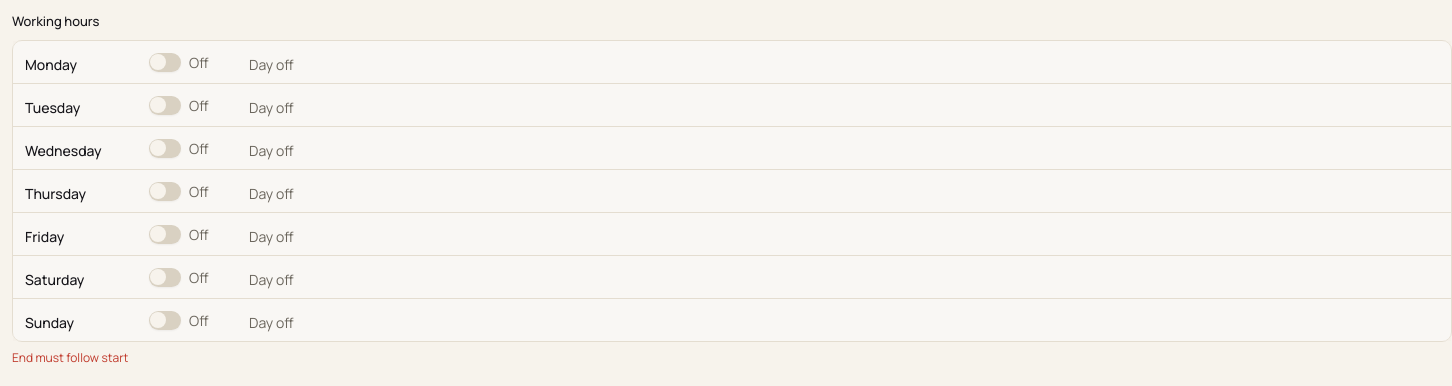
Scenario: working hours changes preserve the other days and show validation
Expected: the message reads "End must follow start", [12, 348, 128, 366]
Click the switch named "Monday working": coordinates (165, 62) [149, 53, 181, 72]
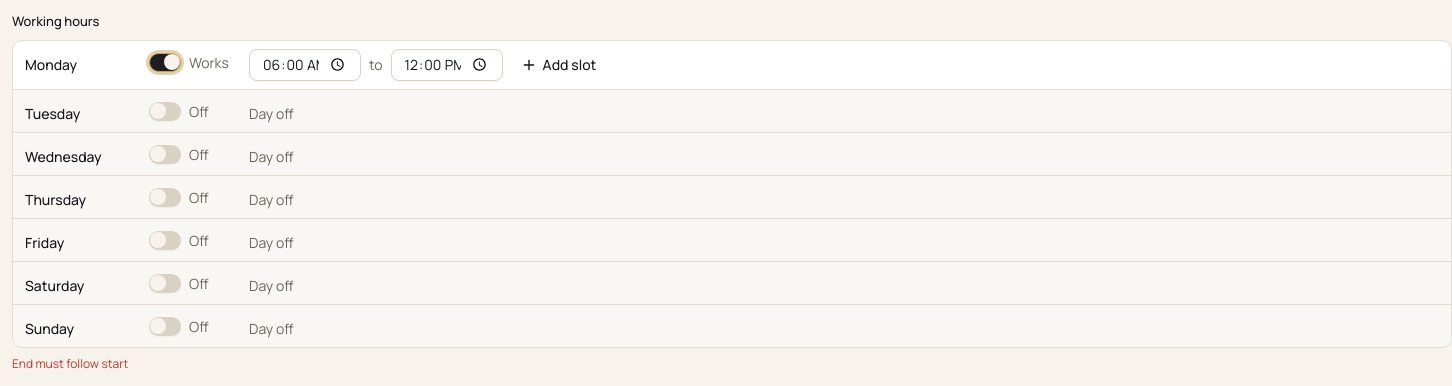
Replace the text in the time field named "Monday start" with "07:00": coordinates (305, 64) [249, 48, 361, 80]
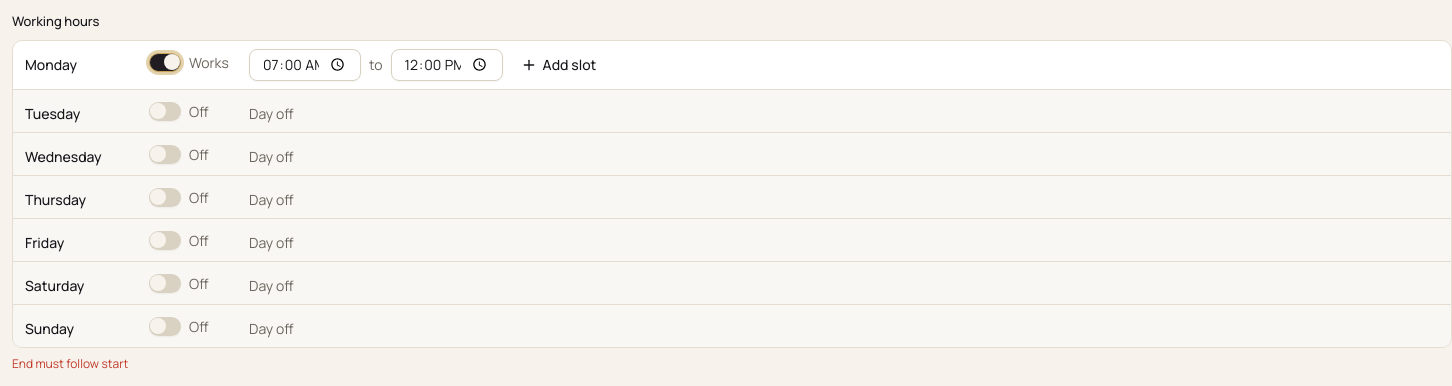
Replace the text in the time field named "Monday end" with "13:00": coordinates (447, 64) [391, 48, 503, 80]
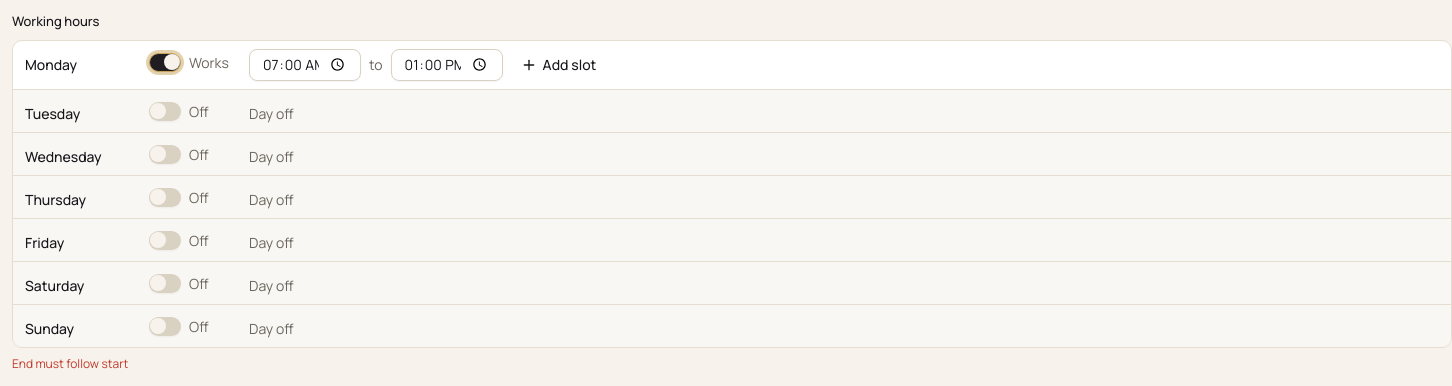
Click the switch named "Monday working": coordinates (165, 62) [149, 53, 181, 72]
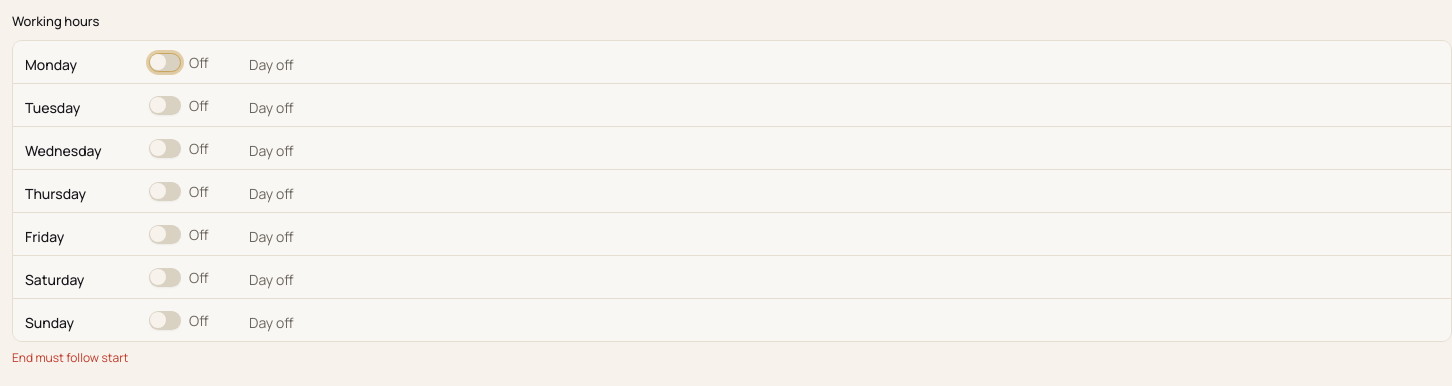
Click the switch named "Monday working": coordinates (165, 62) [149, 53, 181, 72]
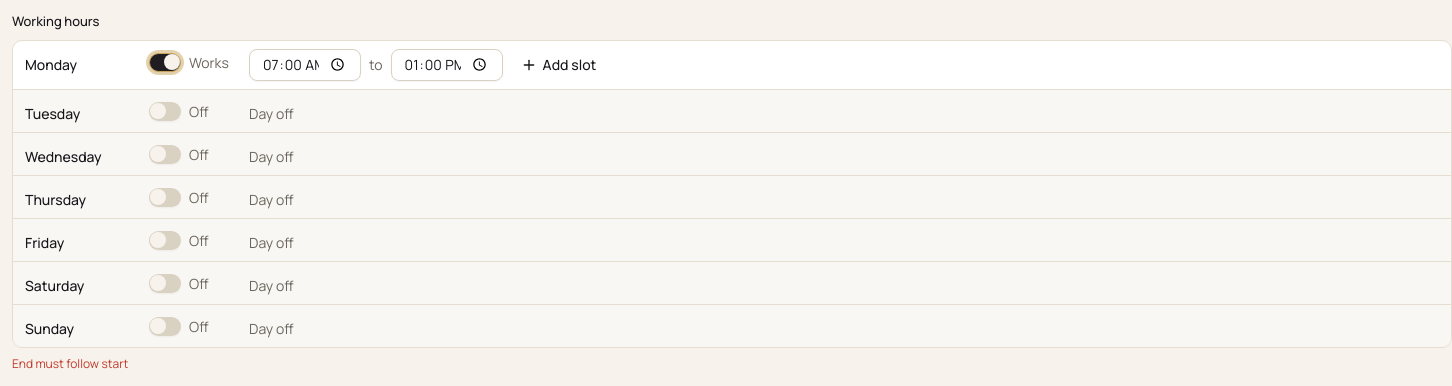
Now the time field named "Monday start" holds "07:00", box [249, 48, 361, 80]
